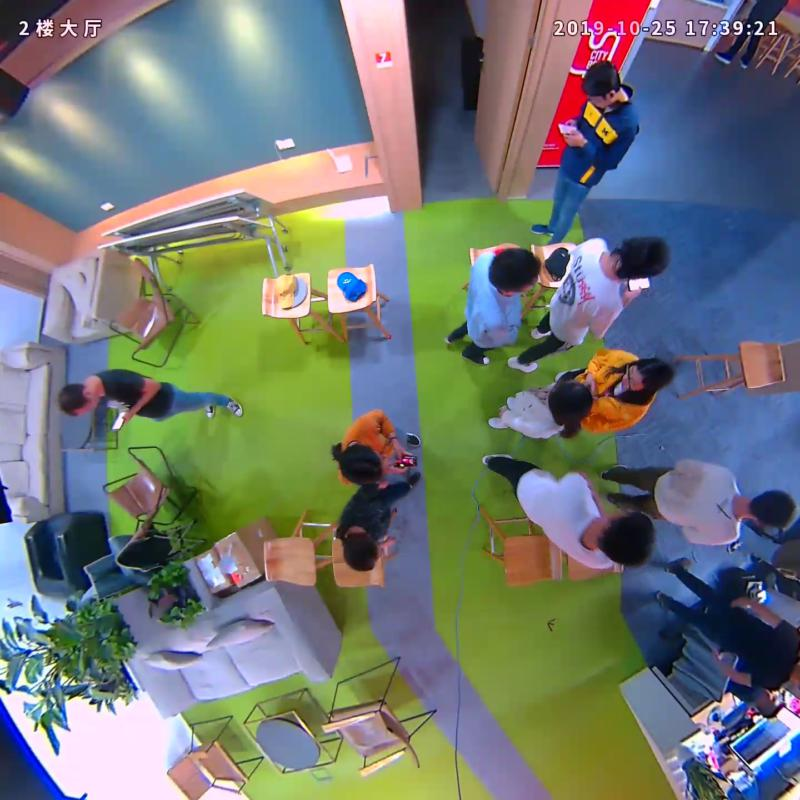head: (598, 509, 654, 567), (487, 248, 541, 296), (617, 236, 670, 278), (580, 59, 621, 110), (548, 379, 593, 425), (621, 357, 675, 392), (338, 442, 383, 484), (749, 489, 796, 529), (340, 531, 379, 571), (56, 382, 99, 418)
